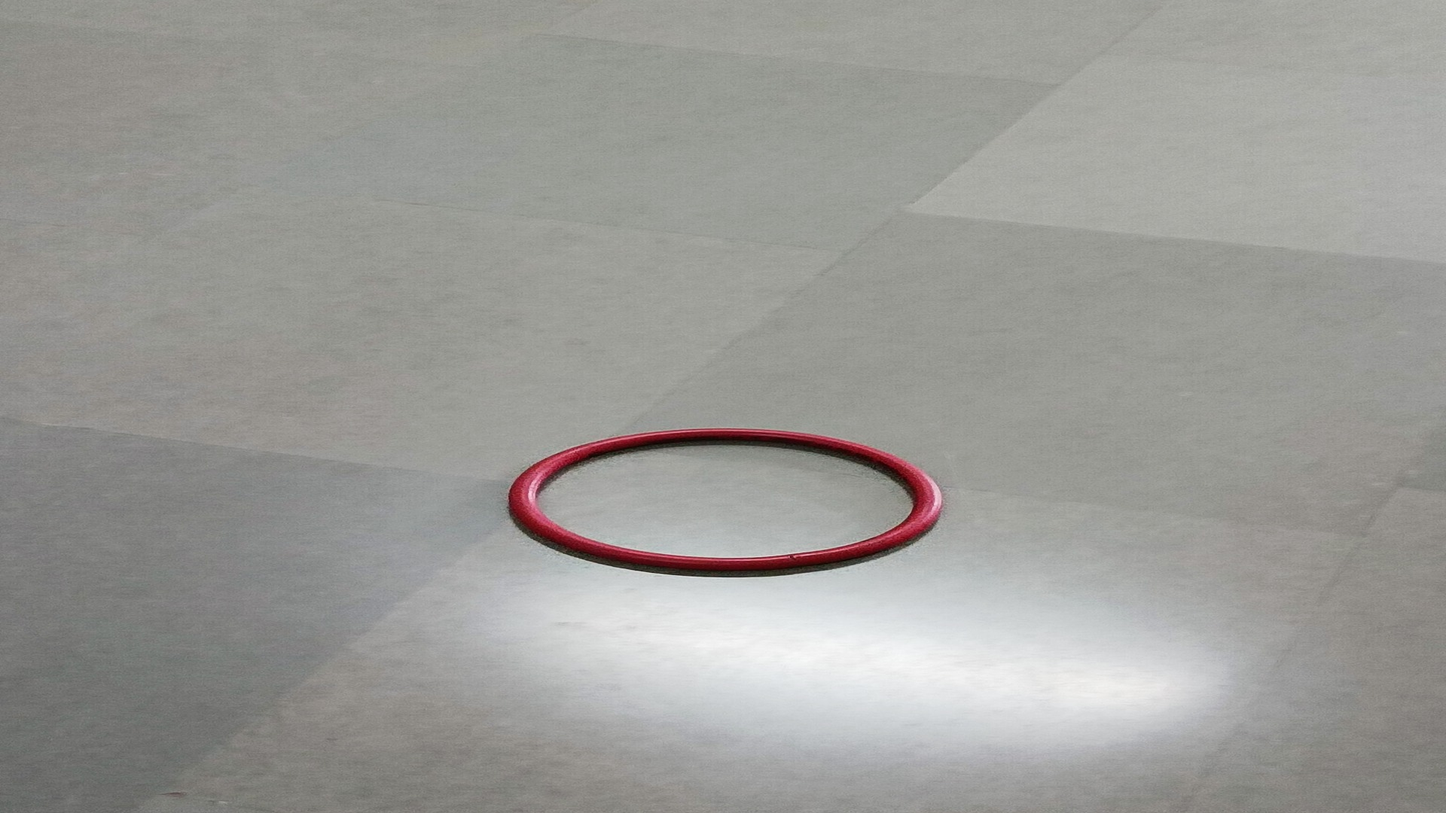Red ring: (508, 427, 946, 572)
